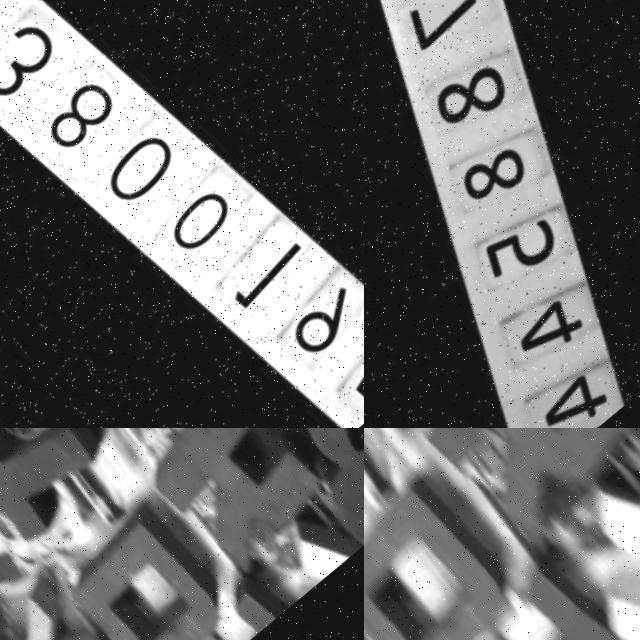0: (79, 112, 204, 233), (146, 173, 257, 280)
1: (205, 218, 324, 332)
3: (0, 1, 82, 127)
4: (490, 271, 618, 396), (514, 343, 640, 428)
5: (456, 188, 592, 320), (332, 321, 364, 428)
7: (376, 0, 513, 87)
8: (401, 31, 541, 168), (432, 117, 558, 239), (20, 62, 139, 177)
9: (273, 271, 364, 382)
D: (364, 477, 533, 640), (59, 505, 255, 640)
H: (544, 437, 640, 640)
I: (447, 556, 640, 640)
K: (133, 428, 344, 590), (400, 428, 640, 567)
T: (0, 428, 127, 558)
X: (0, 588, 140, 640)
